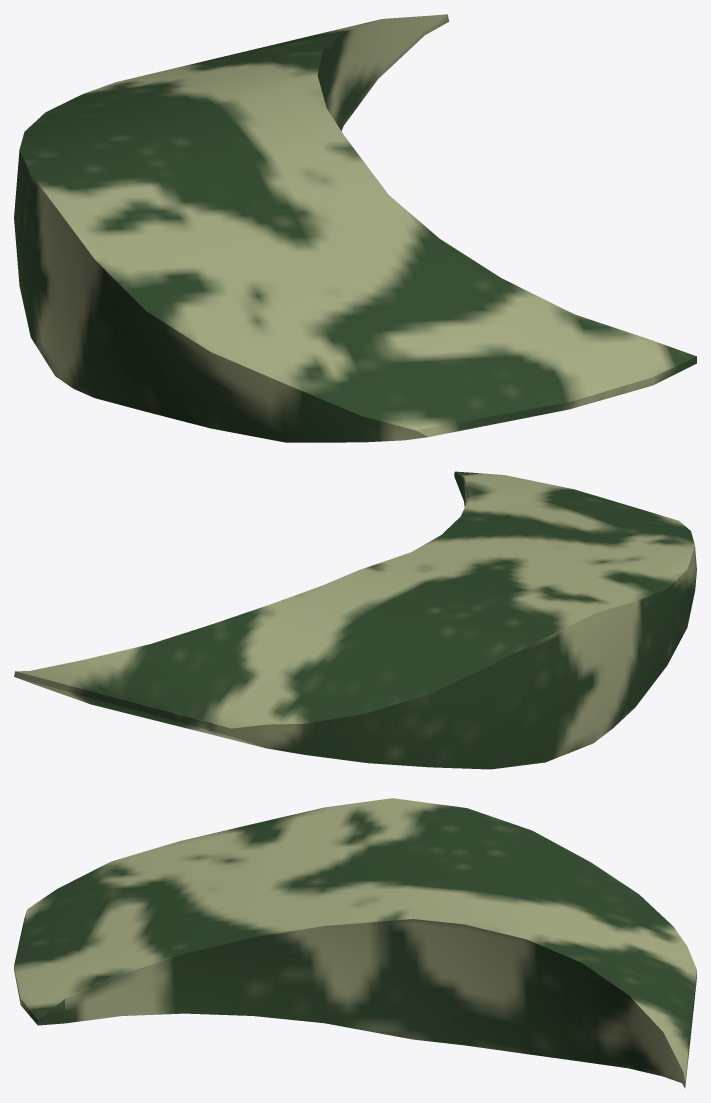
File: link_body_33.obj
3 views of the same model, one above another, from view 1: azimuth 30°, elevation 25°; view 2: azimuth 150°, elevation 25°; view 3: azimuth 270°, elevation 25° (orthographic). The views are drawn at different scales.
Visible parts, largest first — view 1: link_body_33; view 2: link_body_33; view 3: link_body_33.
Part boxes in pixels (left/top/right/bottom): link_body_33: left=14, top=14, right=696, bottom=442; link_body_33: left=14, top=471, right=696, bottom=769; link_body_33: left=14, top=798, right=696, bottom=1088.
Bounding box in the file's own units: 8.13 × 2.22 × 10.38.
